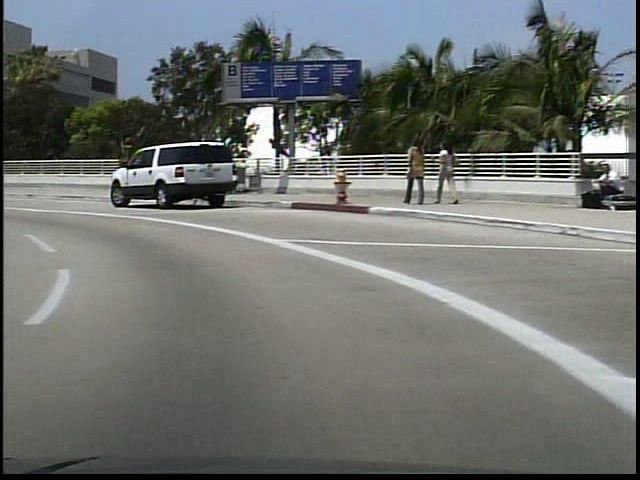person: (575, 161, 614, 208), (426, 138, 452, 208), (400, 134, 423, 212)
